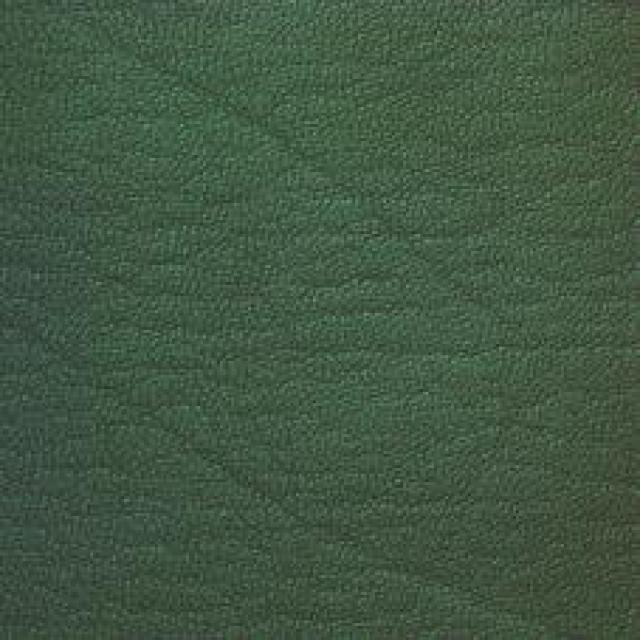Growth Marks: (85, 389, 385, 564), (128, 36, 325, 190)
